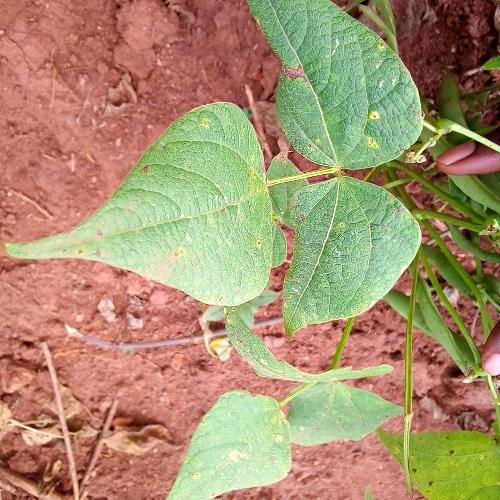embun tepung: (289, 191, 390, 290)
hawar: (283, 0, 388, 168), (50, 214, 244, 274)
